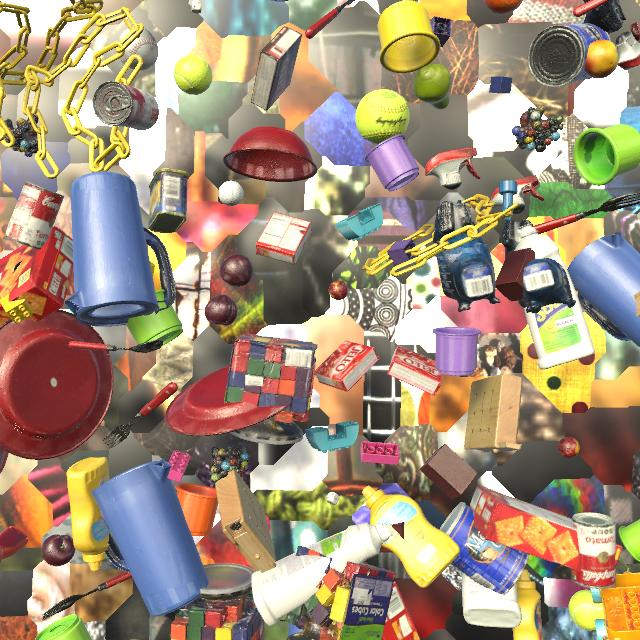ycb_002_master_chef_can: (439, 502, 529, 596), (528, 22, 611, 87)
ycb_003_cracker_box: (470, 485, 623, 572), (0, 226, 74, 326), (363, 562, 421, 640)
ycb_005_tomato_soup_can: (5, 181, 65, 250), (571, 512, 616, 589), (93, 81, 159, 130)
ycb_006_mustard_bottle: (362, 486, 460, 588), (67, 457, 112, 571), (513, 570, 543, 640)
ycb_008_pudding_box: (251, 26, 303, 111)
ycb_009_gelatin_box: (315, 340, 379, 392), (256, 211, 312, 265), (387, 345, 442, 396)
ycb_010_potted_meat_can: (149, 168, 189, 233)
ycb_015_peach: (584, 40, 619, 79)
ycb_016_pear: (413, 63, 451, 109), (130, 639, 139, 640)
ycb_017_orange: (483, 0, 523, 14)
ycb_018_plum: (220, 254, 254, 287), (41, 534, 75, 566), (205, 294, 238, 326)
